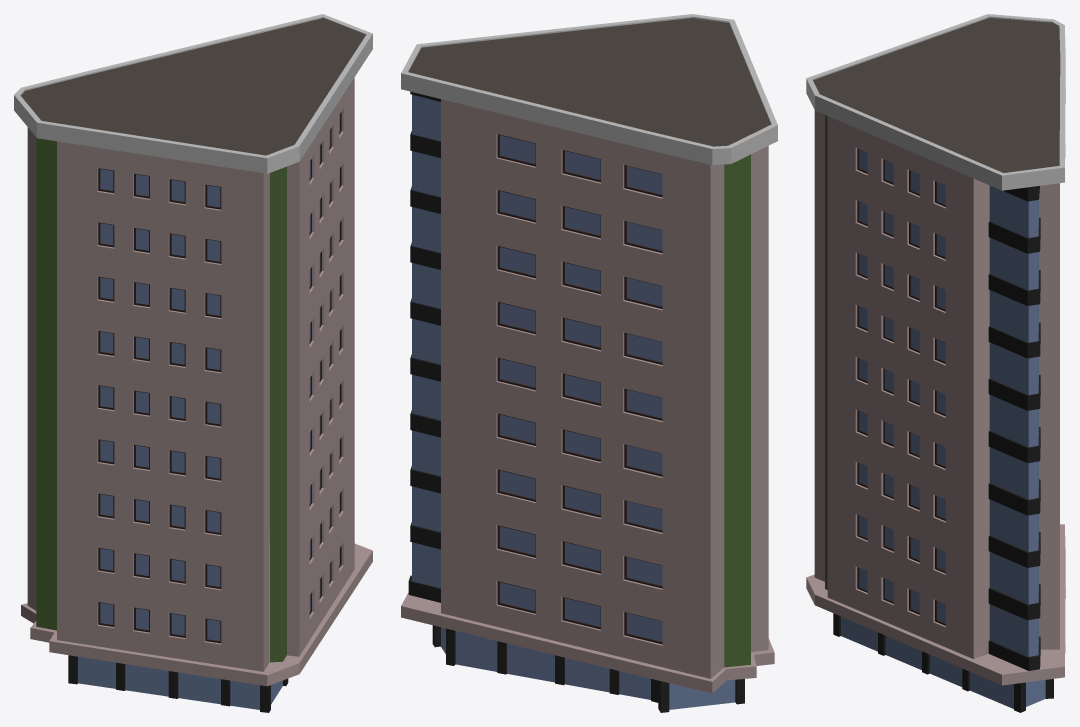
The model's file is ApartmentBuilding_17.fbx.
3 views of the same model, side by side, from view 1: azimuth 30°, elevation 25°; view 2: azimuth 150°, elevation 25°; view 3: azimuth 270°, elevation 25° (orthographic). The views are drawn at different scales.
Parts seen in each view (by area): view 1: ApartmentBuilding_17; view 2: ApartmentBuilding_17; view 3: ApartmentBuilding_17.
Part boxes in pixels (<box>): ApartmentBuilding_17: <box>14,14,372,712</box>; ApartmentBuilding_17: <box>401,14,777,712</box>; ApartmentBuilding_17: <box>806,14,1065,712</box>.
Bounding box in the file's own units: 30.73 × 48.66 × 20.83.
